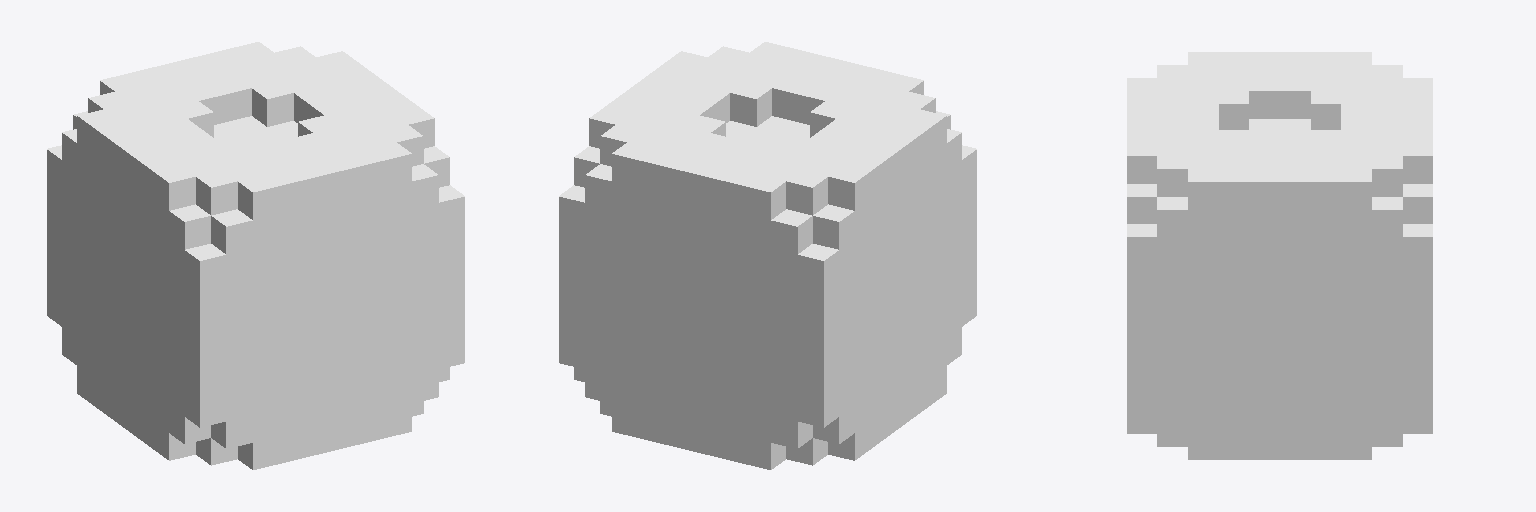
File: StoneDynamic.obj
The picture shows the model from 3 angles: view 1: azimuth 30°, elevation 25°; view 2: azimuth 150°, elevation 25°; view 3: azimuth 270°, elevation 25°; orthographic projection.
Visible parts, largest first — view 1: object 1; view 2: object 1; view 3: object 1.
Boxes of the visible parts, x1=… form: object 1: x1=47, y1=42, x2=464, y2=469; object 1: x1=559, y1=42, x2=976, y2=469; object 1: x1=1127, y1=52, x2=1432, y2=459.
Bounding box in the file's own units: 1 × 1 × 1.